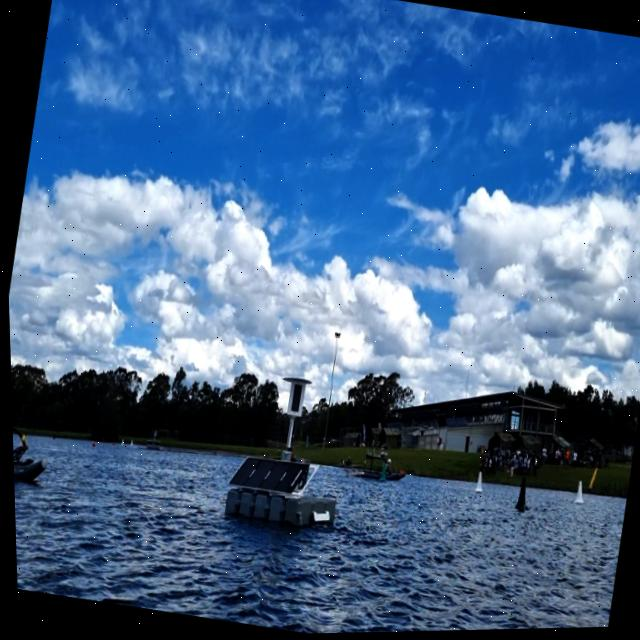led: (285, 383, 303, 416)
